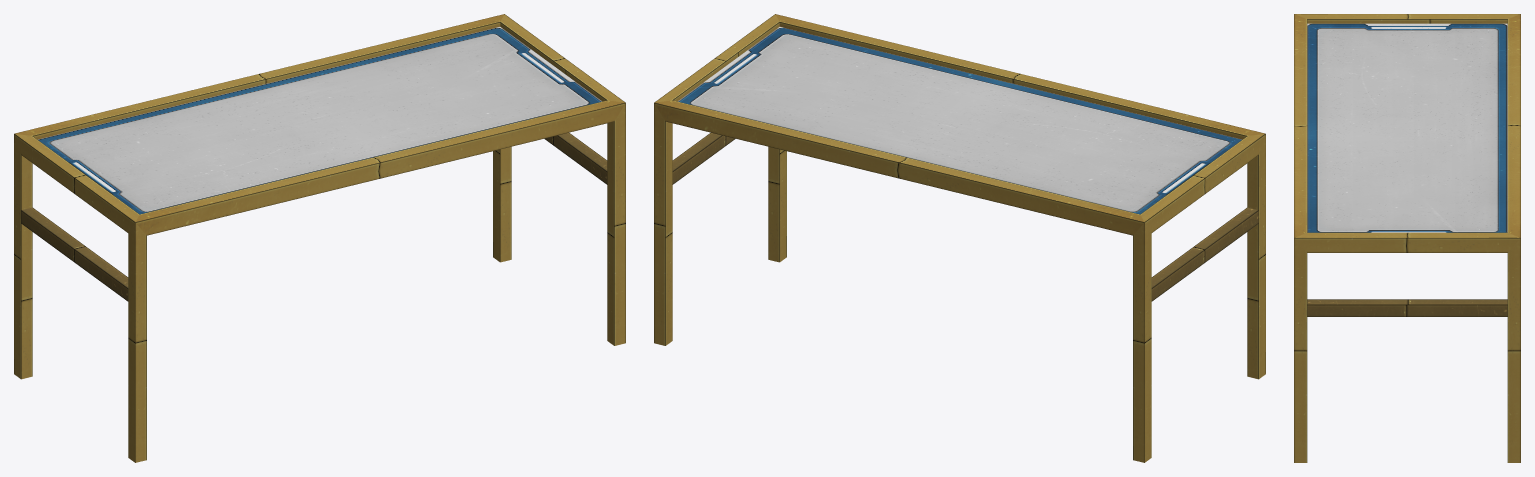
File: Table_Lab_01.FBX
3 views of the same model, side by side, from view 1: azimuth 30°, elevation 25°; view 2: azimuth 150°, elevation 25°; view 3: azimuth 270°, elevation 25° (orthographic). The views are drawn at different scales.
Visible parts, largest first — view 1: Table_Lab_01; view 2: Table_Lab_01; view 3: Table_Lab_01.
Boxes of the visible parts, <box> form: Table_Lab_01: <box>14,14,625,462</box>; Table_Lab_01: <box>654,14,1265,462</box>; Table_Lab_01: <box>1294,14,1520,462</box>.
Bounding box in the file's own units: 69.44 × 32.54 × 29.73.
